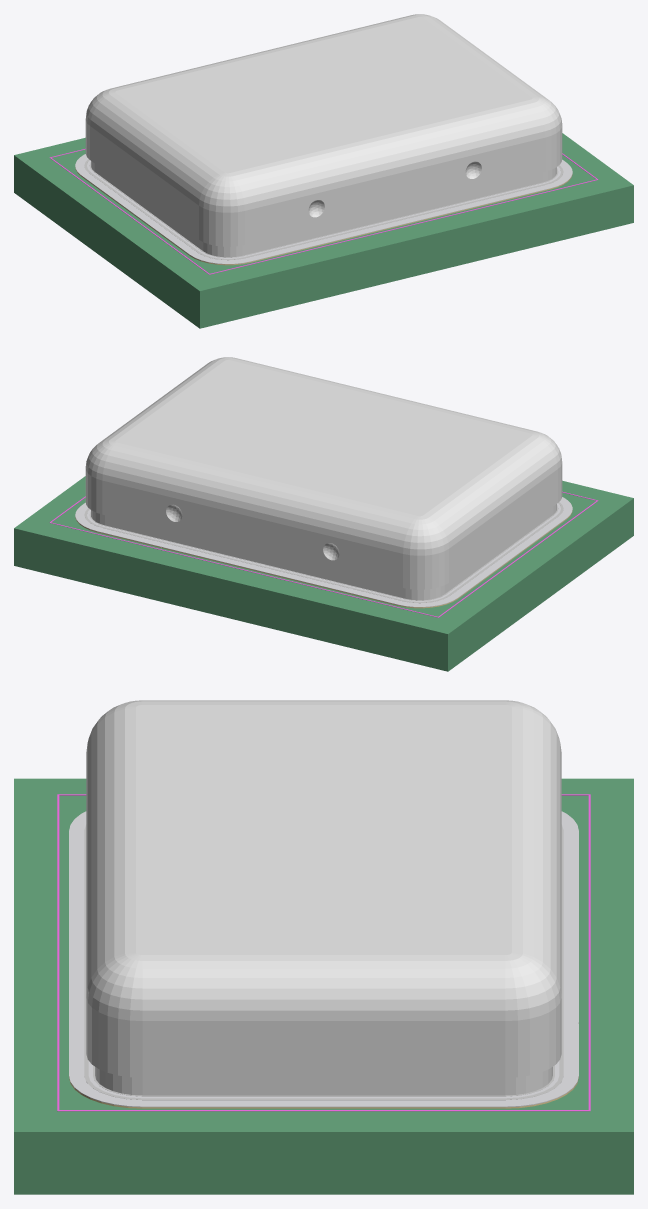
Rendered from head.glb.
3 views of the same model, one above another, from view 1: azimuth 30°, elevation 25°; view 2: azimuth 150°, elevation 25°; view 3: azimuth 270°, elevation 25° (orthographic). The views are drawn at different scales.
Visible parts, largest first — view 1: model_2_0_MS156-10C, PCB, model_1_0_MS156-10F, F.Paste, F.Fab, F.CrtYd, F.Cu; view 2: model_2_0_MS156-10C, PCB, model_1_0_MS156-10F, F.Paste, F.Fab, F.CrtYd, F.Cu; view 3: model_2_0_MS156-10C, PCB, F.Paste, model_1_0_MS156-10F, F.Fab, F.CrtYd, F.Cu.
Boxes of the visible parts, <box> form: model_2_0_MS156-10C: <box>85,14,562,246</box>; PCB: <box>14,133,633,328</box>; model_1_0_MS156-10F: <box>91,161,556,257</box>; F.Paste: <box>75,154,572,264</box>; F.Fab: <box>84,159,563,260</box>; F.CrtYd: <box>49,148,598,274</box>; F.Cu: <box>75,167,572,265</box>; model_2_0_MS156-10C: <box>85,357,562,589</box>; PCB: <box>14,476,633,671</box>; model_1_0_MS156-10F: <box>91,504,556,600</box>; F.Paste: <box>75,497,572,607</box>; F.Fab: <box>84,502,563,603</box>; F.CrtYd: <box>49,491,598,617</box>; F.Cu: <box>75,510,572,608</box>; model_2_0_MS156-10C: <box>86,700,561,1077</box>; PCB: <box>14,778,633,1194</box>; F.Paste: <box>69,811,578,1107</box>; model_1_0_MS156-10F: <box>95,1067,552,1095</box>; F.Fab: <box>84,824,563,1100</box>; F.CrtYd: <box>57,794,590,1111</box>; F.Cu: <box>69,1077,578,1108</box>.
Bounding box in the file's own units: 19.35 × 4.83 × 14.35.
